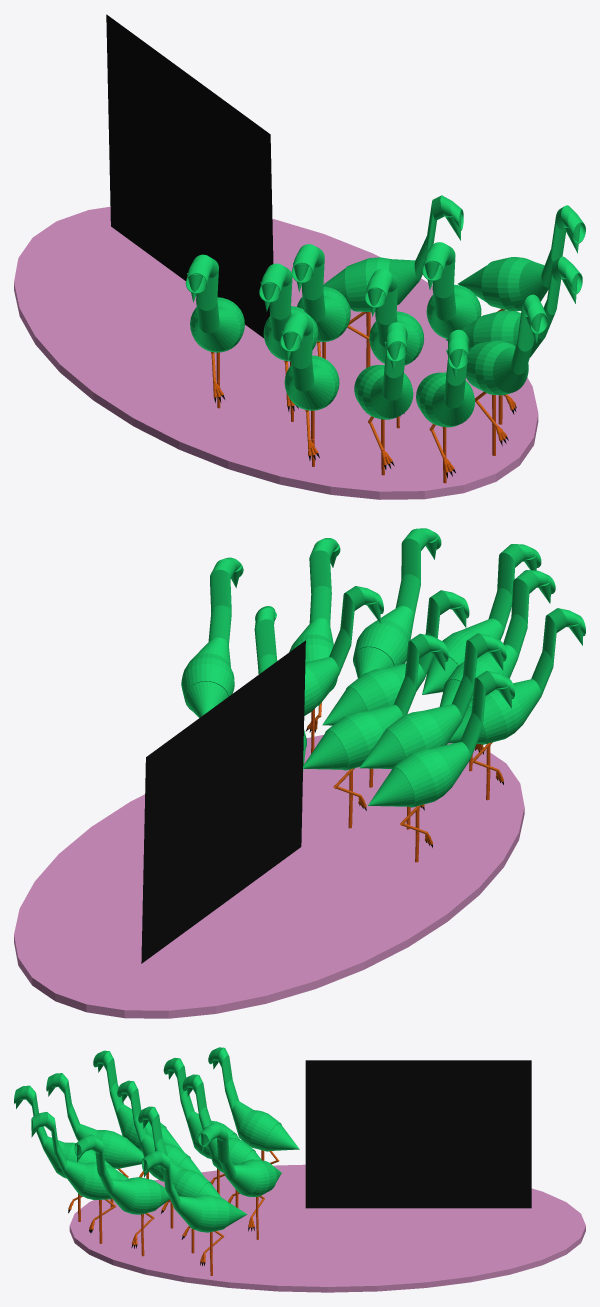
File: float14.fbx
3 views of the same model, one above another, from view 1: azimuth 30°, elevation 25°; view 2: azimuth 150°, elevation 25°; view 3: azimuth 270°, elevation 25° (orthographic). The views are drawn at different scales.
Visible parts, largest first — view 1: Cylinder; view 2: Cylinder; view 3: Cylinder.
Boxes of the visible parts, bbox=[...] form: Cylinder: bbox=[14, 14, 585, 499]; Cylinder: bbox=[14, 528, 585, 1018]; Cylinder: bbox=[14, 1047, 585, 1292].
Bounding box in the file's own units: 742 × 462 × 1462.
